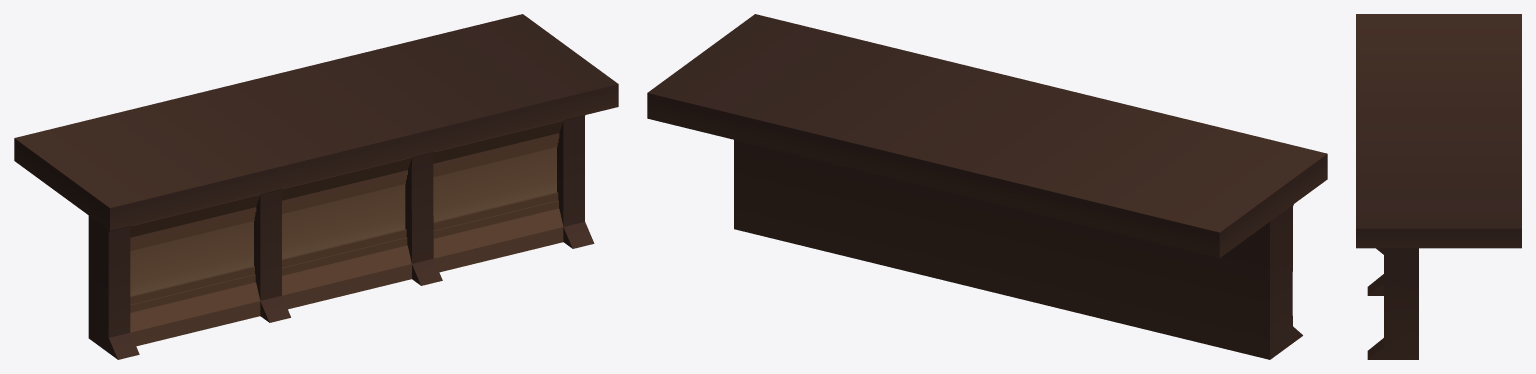
The model's file is bartable.fbx.
3 renders of one model, left to right at view 1: azimuth 30°, elevation 25°; view 2: azimuth 150°, elevation 25°; view 3: azimuth 270°, elevation 25°, orthographic. The views are drawn at different scales.
Parts seen in each view (by area): view 1: Cube, Cube.003; view 2: Cube.003, Cube; view 3: Cube.003, Cube.
Part boxes in pixels (x1,y1,x2,y2): Cube: [88, 115, 594, 359]; Cube.003: [14, 14, 618, 230]; Cube.003: [647, 14, 1327, 258]; Cube: [734, 140, 1302, 359]; Cube.003: [1356, 14, 1521, 248]; Cube: [1367, 248, 1418, 359].
Bounding box in the file's own units: 3621 × 1090 × 1182.
